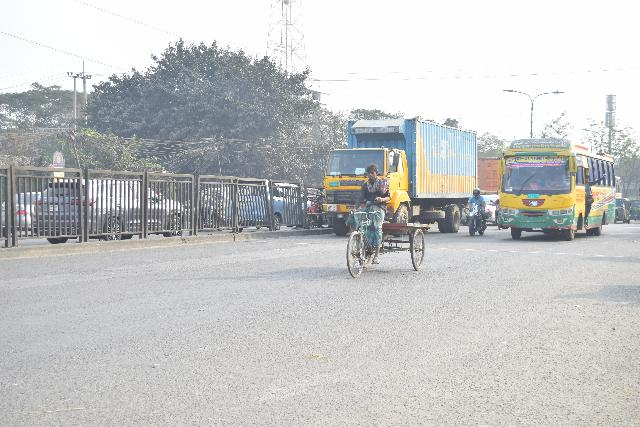bus: (499, 135, 619, 240)
car: (29, 177, 189, 246)
motorcycle: (459, 198, 489, 248)
truck: (317, 114, 463, 230)
